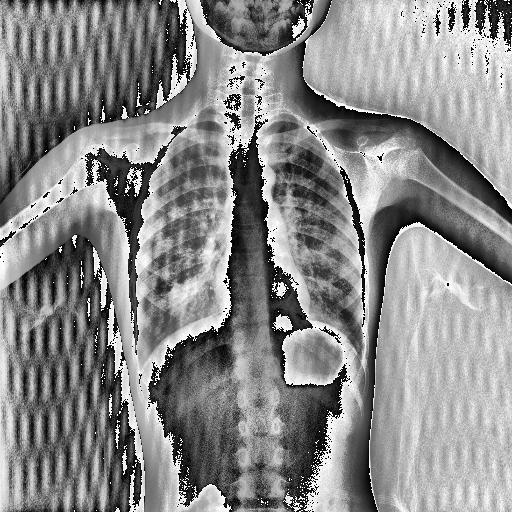4- Consolidation: (154, 278, 204, 324), (274, 286, 324, 330)
6- Infiltration: (158, 265, 214, 325), (156, 271, 216, 320)
